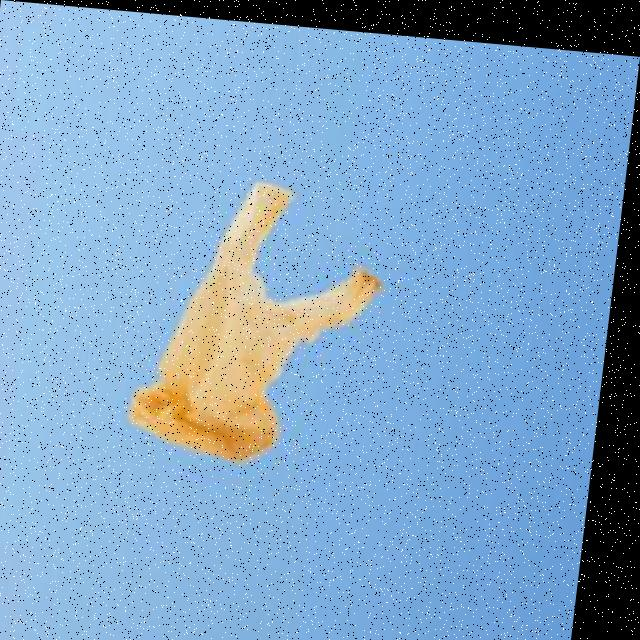litter: (126, 138, 414, 500)
